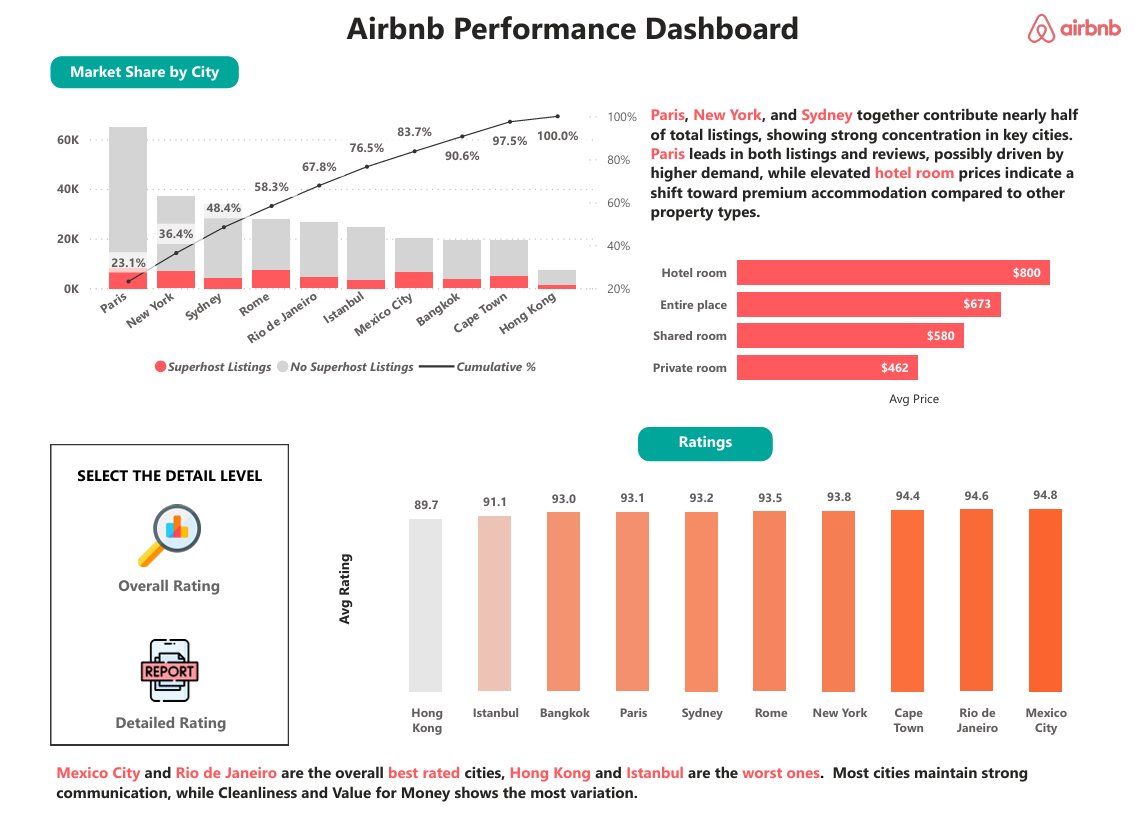

Layout of this report page (visuals, bound fields, positions):
{"tool":"powerbi","page":{"name":"Ratings","canvas":[960,720],"ordinal":1},"visuals":[{"type":"textbox","box":[270.3,0,419.4,48.9],"z":0},{"type":"image","box":[879.2,0,80.7,48.9],"z":1000},{"type":"textbox","box":[22,48.9,165.1,28.1],"z":2000},{"type":"lineStackedColumnComboChart","fields":{"Category":["Listings.city"],"Y":["Listings.Superhost Listings","Listings.No Superhost Listings"],"Y2":["Listings.Cumulative %"]},"box":[22,85.6,520.9,253.1],"z":3000},{"type":"barChart","fields":{"Category":["Listings.room_type"],"Y":["Listings.Avg Price"]},"box":[542.9,204.2,396.2,155.3],"z":4000},{"type":"textbox","box":[542.9,85.6,396.2,118.6],"z":5000},{"type":"textbox","box":[36.7,403.5,179.8,33],"z":6000},{"type":"textbox","box":[536.8,374.2,118.6,29.3],"z":7000},{"type":"shape","box":[22,388.9,209.1,264.1],"z":8000},{"type":"image","box":[99.1,436.6,55,63.6],"z":9000,"group":"g1"},{"type":"columnChart","fields":{"Y":["Listings.Avg Rating"],"Category":["Listings.city"]},"box":[270.2,412.1,668.9,240.9],"z":10000},{"type":"image","box":[99.1,553.9,55,67.3],"z":10000,"group":"g2"},{"type":"group","id":"g1","title":"Group 1","box":[68.5,436.6,116.2,92.9],"z":11000},{"type":"group","id":"g2","title":"Group 2","box":[62.4,553.9,130.8,95.4],"z":12000},{"type":"textbox","box":[68.5,500.2,116.2,29.3],"z":13000,"group":"g1"},{"type":"textbox","box":[22,662.8,917.1,46.5],"z":13000},{"type":"textbox","box":[62.4,621.2,130.8,28.1],"z":13001,"group":"g2"}]}

Visuals, with their boxes on the page's 960x720 design canvas (x1, y1, x2, y2). These are canvas units, not pixel positions in the 1146x814 screenshot, which may show the page scaled, cropped or inside an application window:
textbox: [x1=270, y1=0, x2=690, y2=49]
image: [x1=879, y1=0, x2=960, y2=49]
textbox: [x1=22, y1=49, x2=187, y2=77]
lineStackedColumnComboChart - Listings.city x Listings.Superhost Listings: [x1=22, y1=86, x2=543, y2=339]
barChart - Listings.room_type x Listings.Avg Price: [x1=543, y1=204, x2=939, y2=360]
textbox: [x1=543, y1=86, x2=939, y2=204]
textbox: [x1=37, y1=404, x2=216, y2=436]
textbox: [x1=537, y1=374, x2=655, y2=404]
shape: [x1=22, y1=389, x2=231, y2=653]
image: [x1=99, y1=437, x2=154, y2=500]
columnChart - Listings.Avg Rating x Listings.city: [x1=270, y1=412, x2=939, y2=653]
image: [x1=99, y1=554, x2=154, y2=621]
"Group 1" group: [x1=68, y1=437, x2=185, y2=530]
"Group 2" group: [x1=62, y1=554, x2=193, y2=649]
textbox: [x1=68, y1=500, x2=185, y2=530]
textbox: [x1=22, y1=663, x2=939, y2=709]
textbox: [x1=62, y1=621, x2=193, y2=649]
